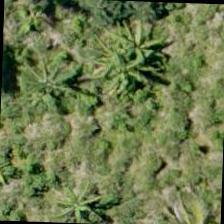Kelapa_Sawit: (161, 174, 223, 223)
